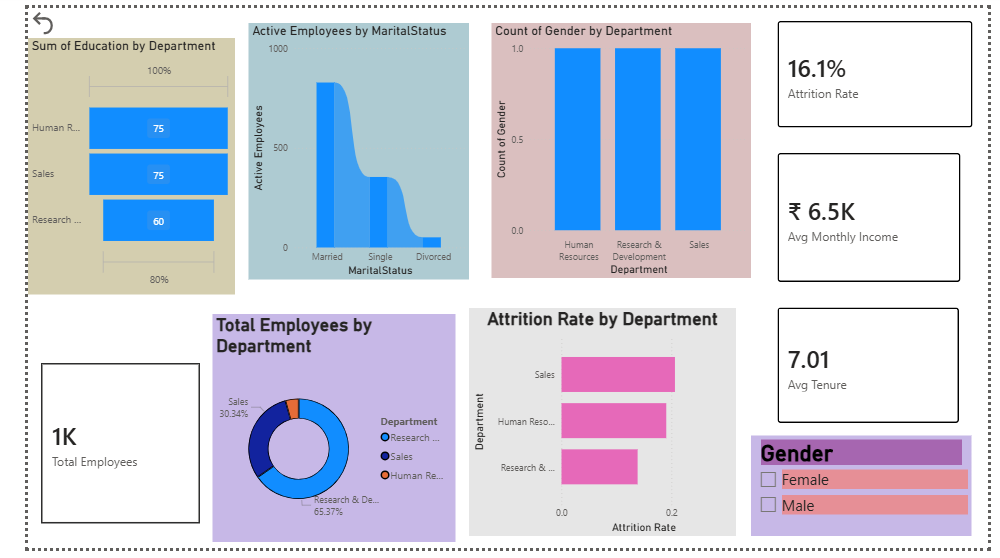

What the dashboard file says about the page in this screenshot:
{"tool":"powerbi","page":{"name":"Executive Summary","canvas":[1280,720],"ordinal":0},"visuals":[{"type":"cardVisual","fields":{"Data":["KPI_Measures.Total Employees"]},"box":[0,456,246,248],"z":0},{"type":"cardVisual","fields":{"Data":["KPI_Measures.Attrition Rate"]},"box":[982,0,294,176],"z":1000},{"type":"cardVisual","fields":{"Data":["KPI_Measures.Avg Monthly Income"]},"box":[982,176,278,206],"z":2000},{"type":"cardVisual","fields":{"Data":["KPI_Measures.Avg Tenure"]},"box":[982,382,276,188],"z":3000},{"type":"donutChart","fields":{"Y":["KPI_Measures.Total Employees"],"Category":["Dim_Department.Department"]},"box":[246,408,324,304],"z":4000},{"type":"barChart","fields":{"Y":["KPI_Measures.Attrition Rate"],"Category":["Dim_Department.Department"]},"box":[588,400,356,304],"z":5000},{"type":"slicer","fields":{"Values":["Dim_Department.Gender"]},"box":[964,570,294,134],"z":6000},{"type":"actionButton","box":[0,0,100,40],"z":7000},{"type":"columnChart","fields":{"Y":["CountNonNull(Dim_Department.Gender)"],"Category":["Dim_Department.Department"]},"box":[618,20,346,340],"z":7001},{"type":"funnel","fields":{"Category":["Dim_Department.Department"],"Y":["Sum(Dim_Education.Education)"]},"box":[0,40,276,342],"z":7002},{"type":"ribbonChart","fields":{"Category":["Dim_Department.MaritalStatus"],"Y":["KPI_Measures.Active Employees"]},"box":[294,20,294,342],"z":7003}]}

Visuals, with their boxes in screenshot pixels (x1, y1, x2, y2), scaled from the page's 1280x720 canvas onto the 1000x558 screenshot:
cardVisual - KPI_Measures.Total Employees: detection(0, 353, 192, 546)
cardVisual - KPI_Measures.Attrition Rate: detection(767, 0, 997, 136)
cardVisual - KPI_Measures.Avg Monthly Income: detection(767, 136, 984, 296)
cardVisual - KPI_Measures.Avg Tenure: detection(767, 296, 983, 442)
donutChart - KPI_Measures.Total Employees x Dim_Department.Department: detection(192, 316, 445, 552)
barChart - KPI_Measures.Attrition Rate x Dim_Department.Department: detection(459, 310, 738, 546)
slicer - Dim_Department.Gender: detection(753, 442, 983, 546)
actionButton: detection(0, 0, 78, 31)
columnChart - CountNonNull(Dim_Department.Gender) x Dim_Department.Department: detection(483, 16, 753, 279)
funnel - Dim_Department.Department x Sum(Dim_Education.Education): detection(0, 31, 216, 296)
ribbonChart - Dim_Department.MaritalStatus x KPI_Measures.Active Employees: detection(230, 16, 459, 281)
